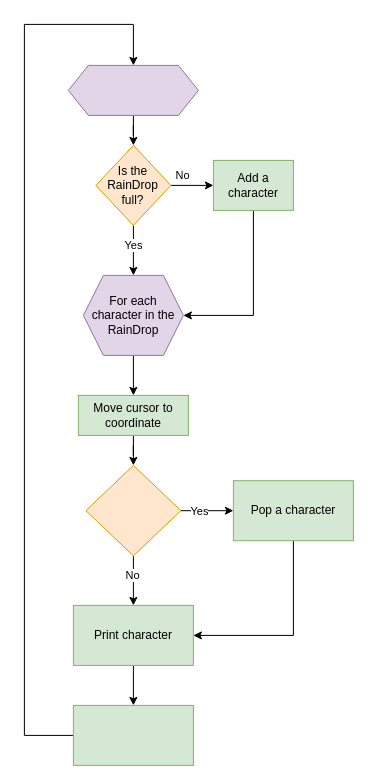
This 371x783 diagram has some shape labels left out. The shapes that lost their labels are listed below. From the top down, each one's centre as x and y in pixels, then its label:
At pixel 132 89: "For each RainDrop Object".
At pixel 133 510: "Has the Raindrop reached the bottom?".
At pixel 132 734: "Increment Y coordinate".
